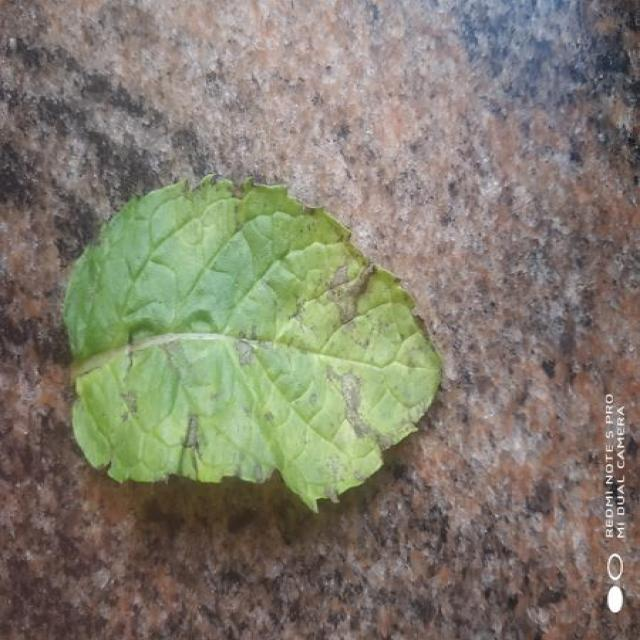mint: (63, 178, 440, 509)
